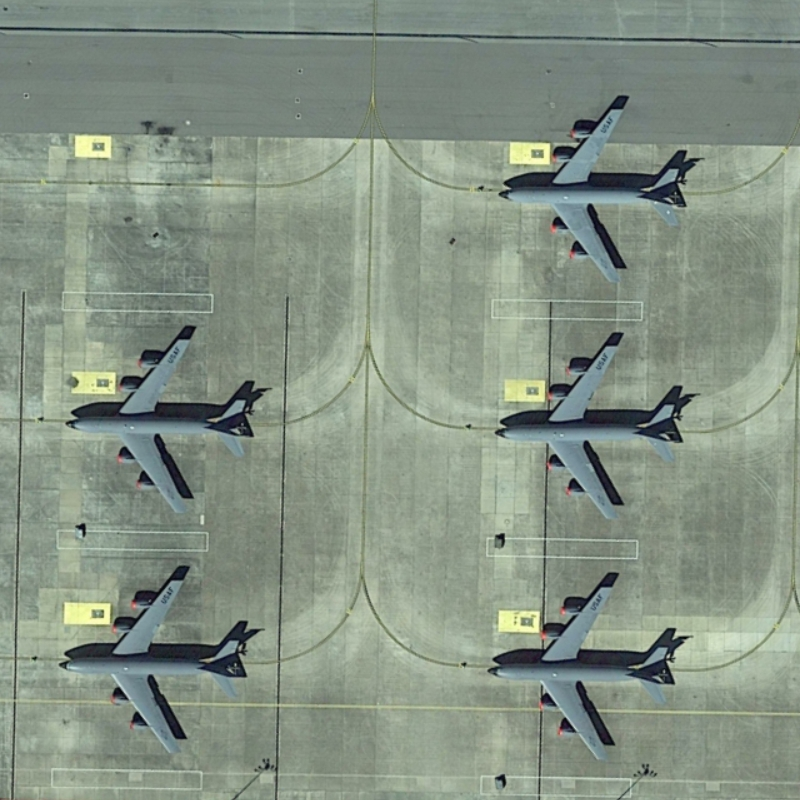A14: (56, 326, 256, 523), (488, 98, 694, 288), (487, 331, 683, 522), (480, 579, 680, 766), (54, 566, 250, 755)
